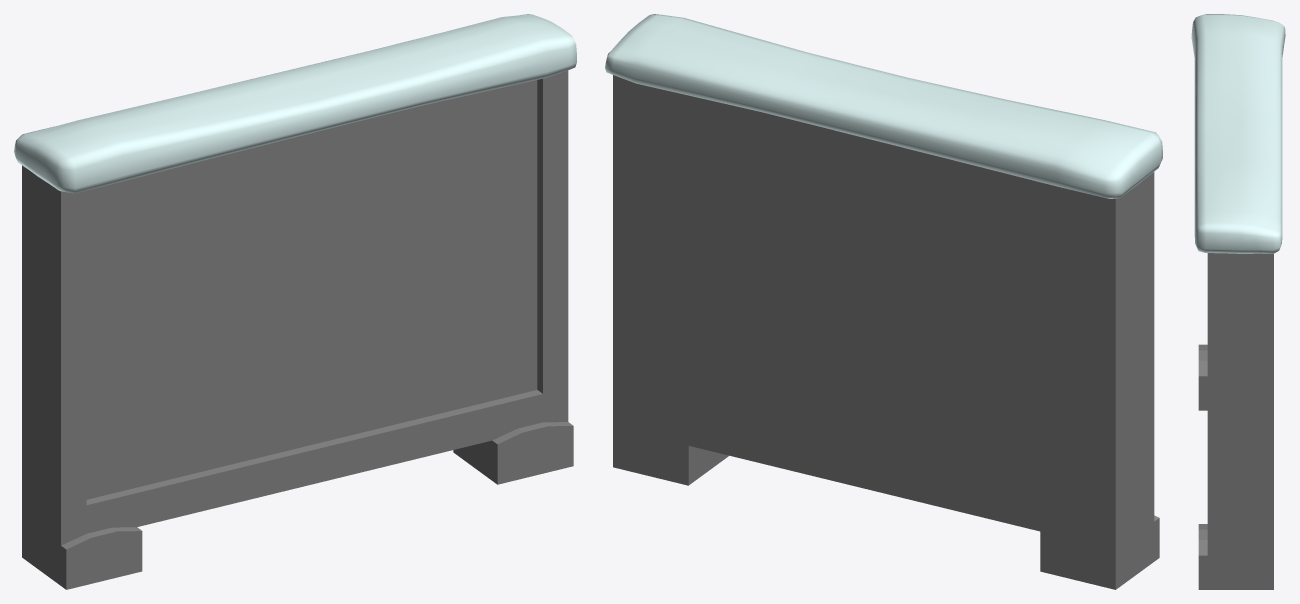
File: Mesh_freezeland_table_01.FBX
The picture shows the model from 3 angles, left to right: view 1: azimuth 30°, elevation 25°; view 2: azimuth 150°, elevation 25°; view 3: azimuth 270°, elevation 25°; orthographic projection. The views are drawn at different scales.
Parts seen in each view (by area): view 1: Mesh_freezeland_table_01; view 2: Mesh_freezeland_table_01; view 3: Mesh_freezeland_table_01.
Boxes of the visible parts, left/top/right/bottom form: Mesh_freezeland_table_01: left=14, top=14, right=576, bottom=589; Mesh_freezeland_table_01: left=605, top=14, right=1162, bottom=589; Mesh_freezeland_table_01: left=1191, top=14, right=1285, bottom=589.
Size of what is drawn, in the model's own units: 1121 by 206 by 887.
